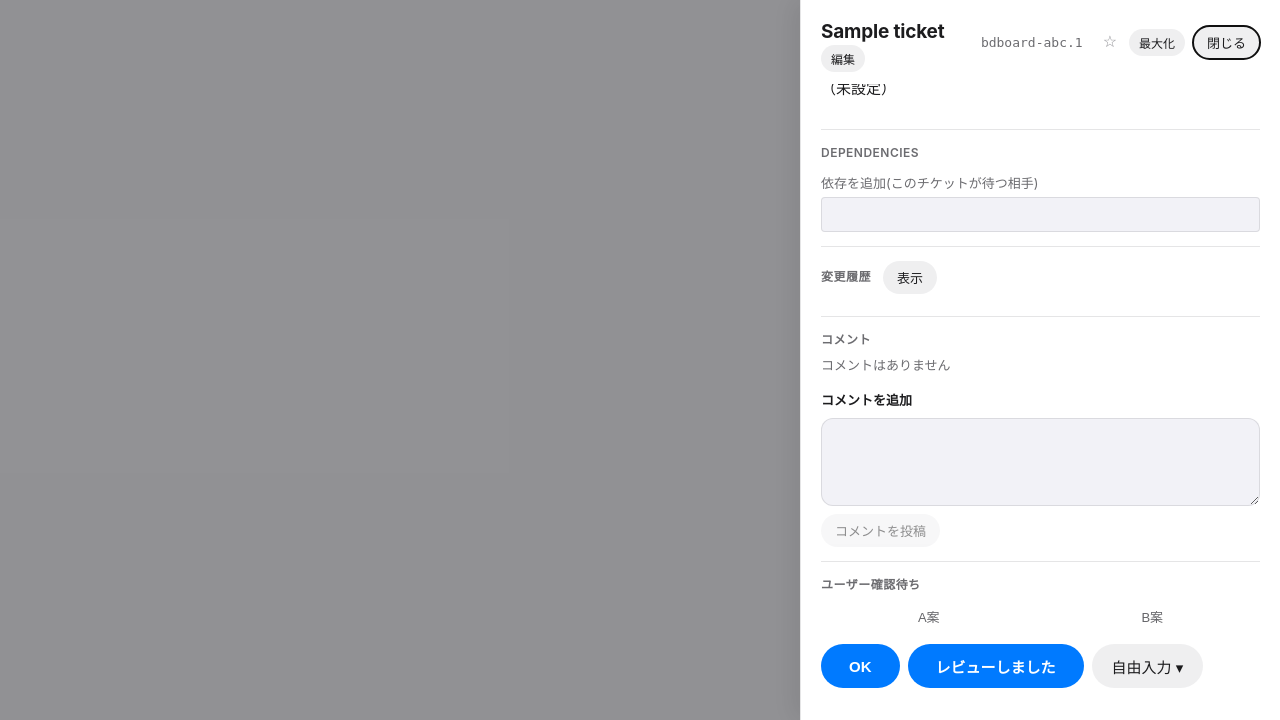
Test: TicketDetailPanel pending decisions › submits selected choice via postTicketDecision
(page scrolled)
Click the button "A案" at (929, 617), box [821,601,1036,632]
(page scrolled)
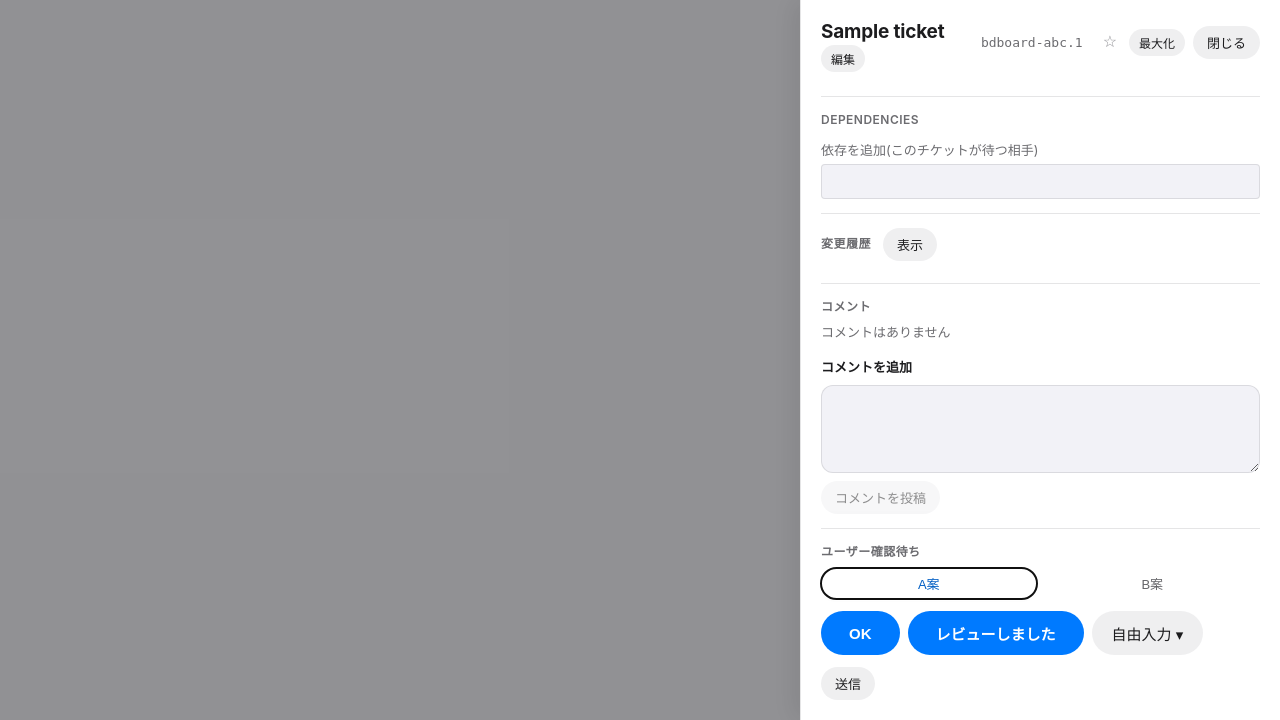
Click the button "送信" at (848, 684), box [821,667,875,700]
(page scrolled)
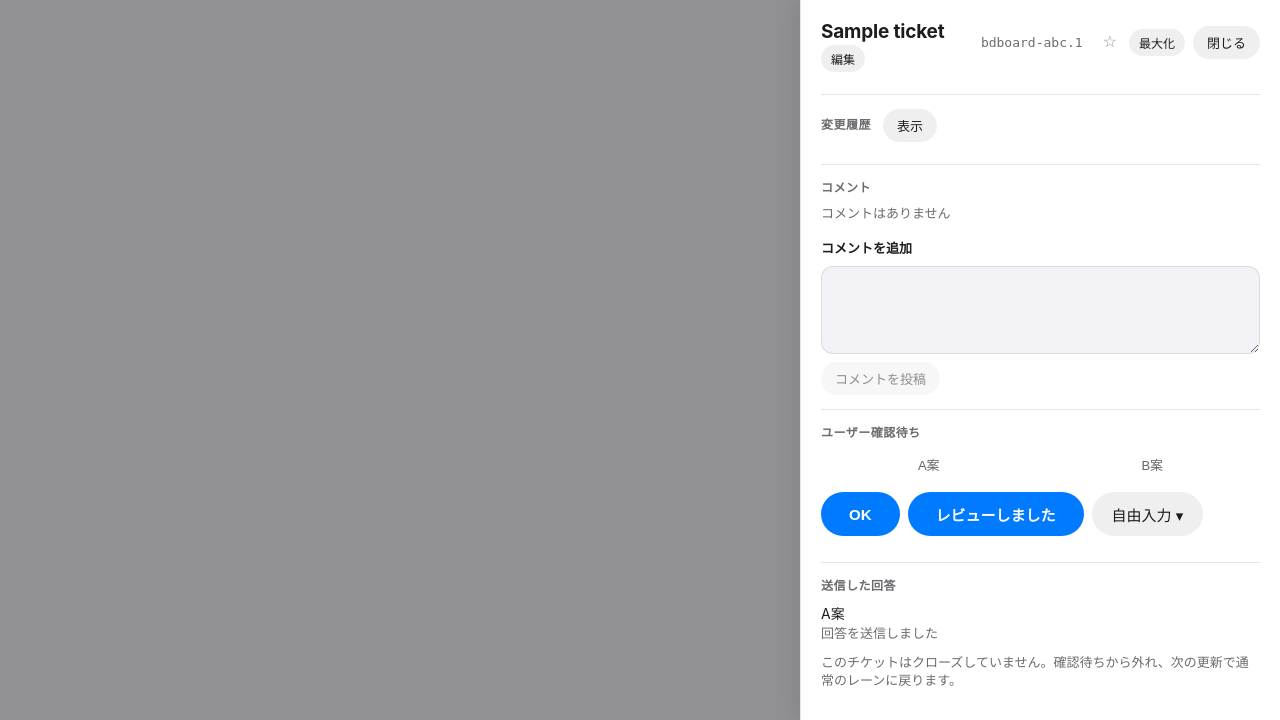
Expected: the heading "送信した回答" is shown, [821,578,896,593]
Expected: the text "回答を送信しました" is shown, [821,625,938,641]
Expected: the text "このチケットはクローズしていません。確認待ちから外れ、次の更新で通常のレーンに戻ります。" is shown, [821,653,1260,690]
